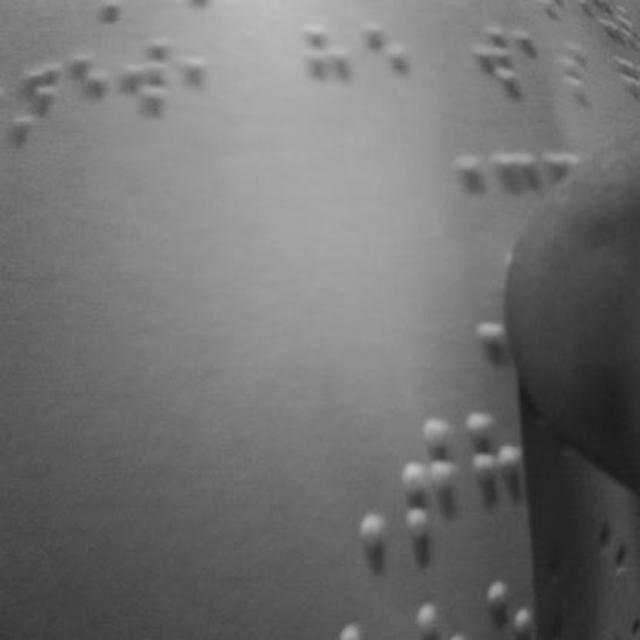braiile: (398, 410, 466, 560), (468, 408, 528, 558)
